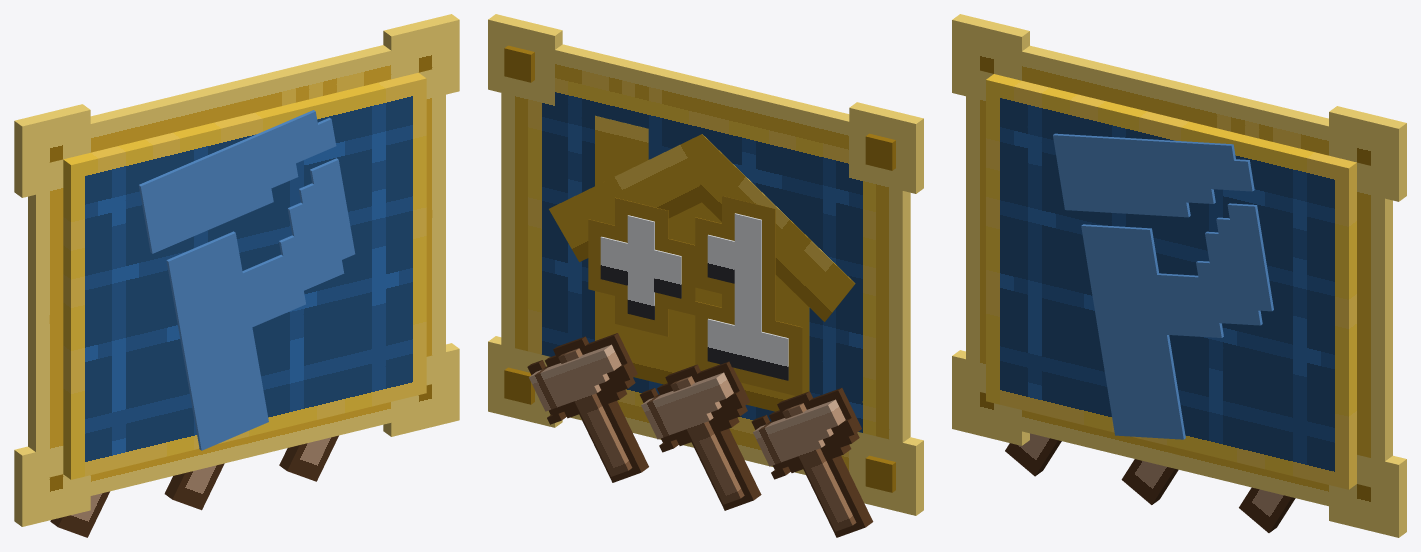
The picture shows the model from 3 angles, left to right: view 1: azimuth 30°, elevation 25°; view 2: azimuth 150°, elevation 25°; view 3: azimuth 330°, elevation 25°; orthographic projection. The views are drawn at different scales.
Parts seen in each view (by area): view 1: plan-Local, backp-Local, skull01-Local, skull02-Local, skull3$$(1)-Local; view 2: plan-Local, icon_border-Local, icon-Local, house_body-Local, skull3$$(1)-Local, skull02-Local, skull01-Local, house_roof_2-Local, house_roof_1-Local, dots-Local; view 3: plan-Local, backp-Local, skull01-Local, skull02-Local, skull3$$(1)-Local.
Boxes of the visible parts, x1,y1,x2,y2 form: plan-Local: (14,14,459,526); backp-Local: (138,110,355,450); skull01-Local: (164,463,224,510); skull02-Local: (279,435,338,481); skull3$$(1)-Local: (50,491,109,537); plan-Local: (488,14,923,515); icon_border-Local: (588,196,802,395); icon-Local: (600,213,788,380); house_body-Local: (595,115,809,411); skull3$$(1)-Local: (751,388,873,537); skull02-Local: (527,333,648,482); skull01-Local: (640,361,761,510); house_roof_2-Local: (687,134,855,321); house_roof_1-Local: (549,134,708,261); dots-Local: (504,45,895,492); plan-Local: (952,14,1406,537); backp-Local: (1053,133,1273,439); skull01-Local: (1121,459,1178,504); skull02-Local: (1239,487,1295,532); skull3$$(1)-Local: (1005,433,1061,476).
Size of the model in its own units: 64 by 60.86 by 7.52.
11 materials, 11 textured.
